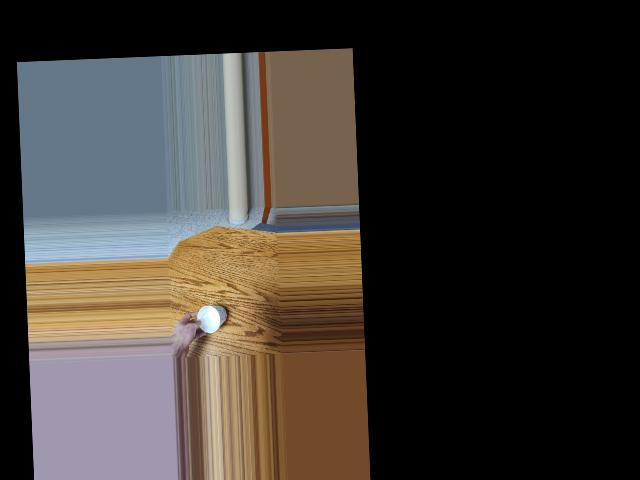cotage: (192, 302, 224, 333)
